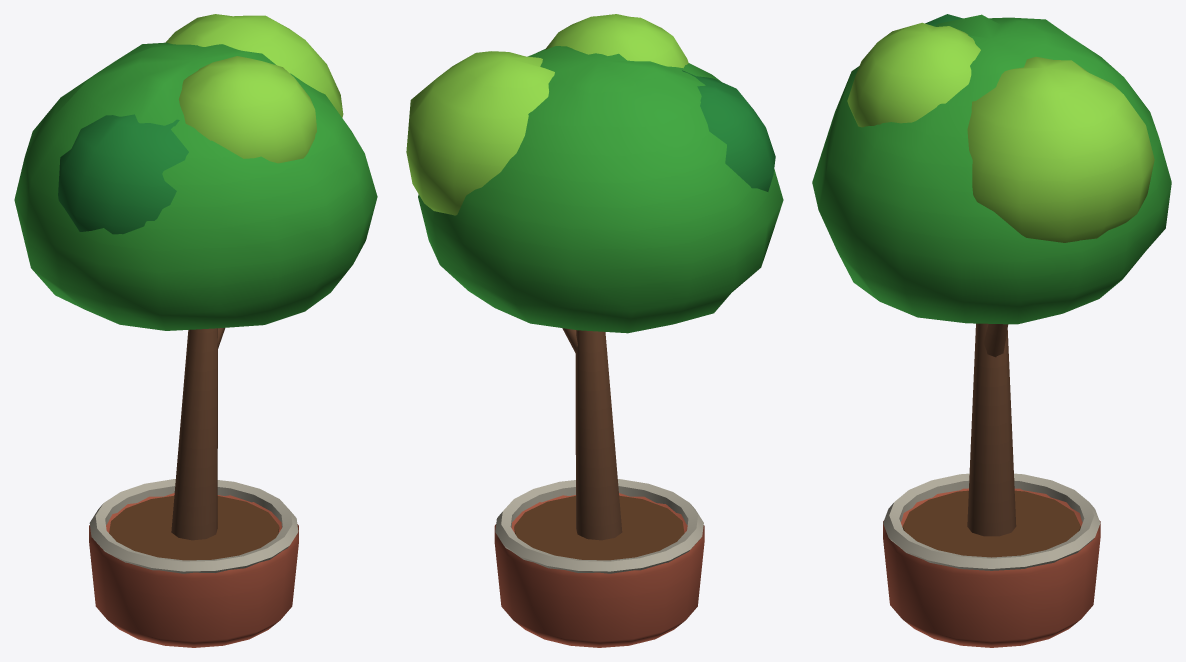
Rendered from street-tree.glb.
3 views of the same model, side by side, from view 1: azimuth 30°, elevation 25°; view 2: azimuth 150°, elevation 25°; view 3: azimuth 270°, elevation 25° (orthographic). The views are drawn at different scales.
Visible parts, largest first — view 1: street-tree Foliage, street-tree Lime leaf, street-tree Terracotta, street-tree Leaf deep, street-tree Bark, street-tree Dark wood, street-tree Cream; view 2: street-tree Foliage, street-tree Lime leaf, street-tree Terracotta, street-tree Bark, street-tree Dark wood, street-tree Cream, street-tree Leaf deep; view 3: street-tree Foliage, street-tree Lime leaf, street-tree Terracotta, street-tree Bark, street-tree Dark wood, street-tree Cream.
Boxes of the visible parts, bbox=[...] form: street-tree Foliage: bbox=[14, 42, 377, 330]; street-tree Lime leaf: bbox=[165, 14, 343, 163]; street-tree Terracotta: bbox=[89, 493, 298, 647]; street-tree Leaf deep: bbox=[58, 114, 188, 234]; street-tree Bark: bbox=[171, 328, 225, 540]; street-tree Dark wood: bbox=[109, 496, 279, 560]; street-tree Cream: bbox=[89, 479, 298, 573]; street-tree Foliage: bbox=[418, 46, 783, 333]; street-tree Lime leaf: bbox=[406, 14, 688, 215]; street-tree Terracotta: bbox=[494, 493, 704, 647]; street-tree Bark: bbox=[562, 328, 622, 540]; street-tree Dark wood: bbox=[514, 495, 684, 560]; street-tree Cream: bbox=[495, 479, 703, 573]; street-tree Leaf deep: bbox=[682, 70, 775, 191]; street-tree Foliage: bbox=[812, 14, 1171, 324]; street-tree Lime leaf: bbox=[847, 22, 1154, 242]; street-tree Terracotta: bbox=[883, 488, 1100, 647]; street-tree Bark: bbox=[967, 323, 1016, 536]; street-tree Dark wood: bbox=[902, 490, 1080, 557]; street-tree Cream: bbox=[883, 473, 1100, 570].
Size of the model in its own units: 2.11 by 3.62 by 2.02.
Materials: 7 (7 with a texture image).
